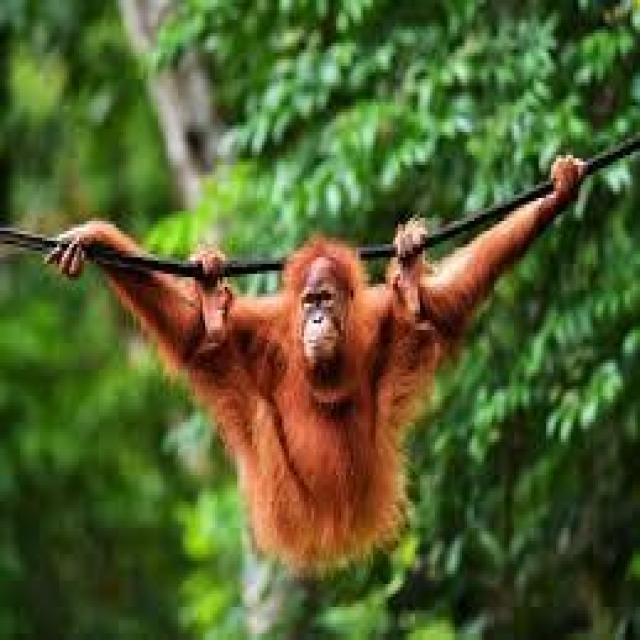Chimpanzee: (46, 183, 614, 579)
